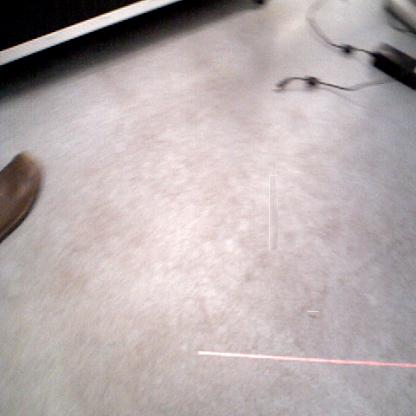mark: (269, 175, 278, 250), (307, 311, 319, 322)
